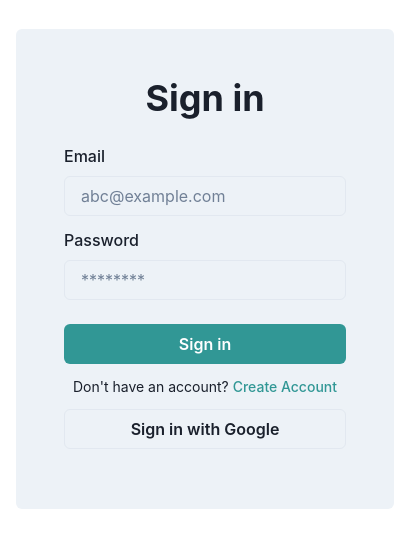
Test: Enhanced SignIn Component › Form Validation › should show error when password is empty
Type "test@example.com" into the field labelled "Email" at (205,196), box [64, 176, 346, 216]
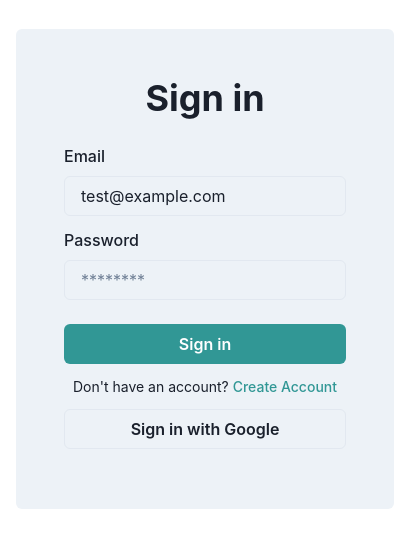
Click the button with test id "signin-submit" at (205,344), box [64, 324, 346, 364]
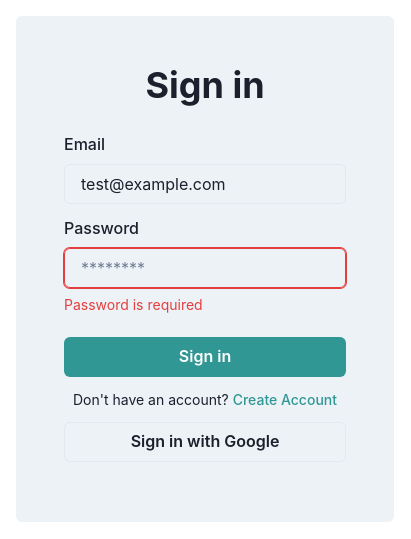
Check: the text "Password is required" is shown, box [64, 296, 203, 313]
